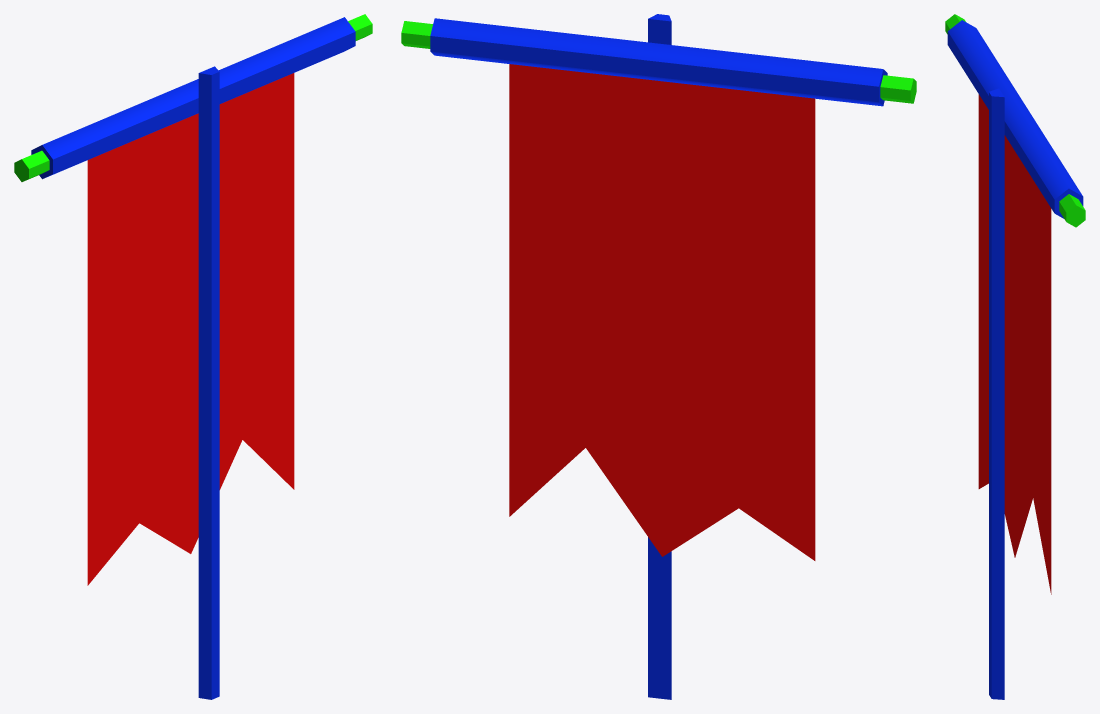
Rendered from Flagh.fbx.
3 renders of one model, left to right at view 1: azimuth 30°, elevation 25°; view 2: azimuth 150°, elevation 25°; view 3: azimuth 270°, elevation 25°, orthographic. The views are drawn at different scales.
Visible parts, largest first — view 1: Flagh; view 2: Flagh; view 3: Flagh.
Part boxes in pixels (<box>): Flagh: <box>14,14,372,699</box>; Flagh: <box>401,14,916,699</box>; Flagh: <box>945,14,1085,699</box>.
Size of the model in its own units: 215 by 313 by 66.08.
